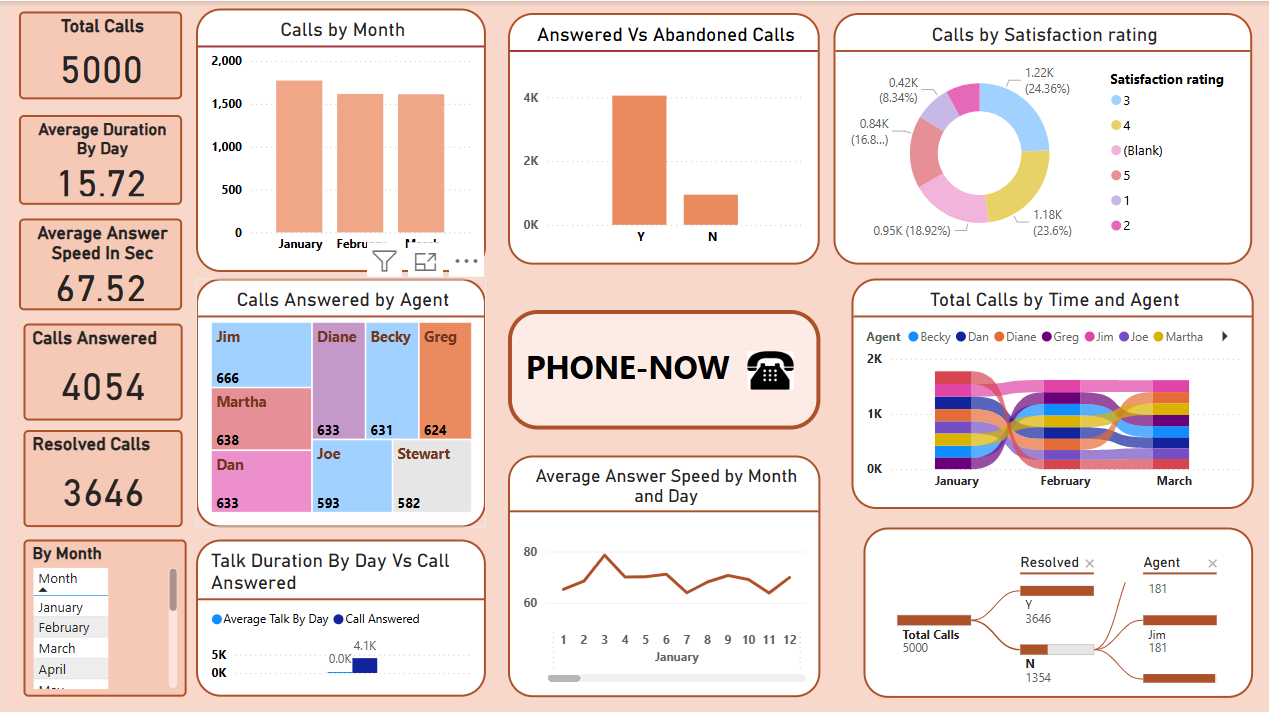

What the dashboard file says about the page in this screenshot:
{"tool":"powerbi","page":{"name":"Page 1","canvas":[1280,720],"ordinal":0},"visuals":[{"type":"clusteredColumnChart","title":"Calls  by Month","fields":{"Category":["Sheet1.Date.Variation.Date Hierarchy.Month"],"Y":["Sheet1.Call Id"]},"box":[197,8.1,292.4,266],"z":0},{"type":"clusteredColumnChart","title":"Answered Vs Abandoned Calls","fields":{"Category":["Sheet1.Answered (Y/N)"],"Y":["Sheet1.Call Id"]},"box":[511.7,12.2,314.8,253.8],"z":1000},{"type":"donutChart","title":" Calls by Satisfaction rating","fields":{"Category":["Sheet1.Satisfaction rating"],"Y":["Sheet1.Call Id"]},"box":[840.7,12.2,422.4,253.8],"z":2000},{"type":"treemap","title":"Calls  Answered  by Agent","fields":{"Group":["Sheet1.Agent"],"Values":["Sheet1.Answered (Y/N)"]},"box":[196.5,279.7,292.9,251.3],"z":3000},{"type":"card","title":"Total Calls","fields":{"Values":["Sheet1.Total Calls"]},"box":[18.9,11.3,164.4,88.8],"z":4000},{"type":"tableEx","title":"By Month","fields":{"Values":["Sheet1.Time.Variation.Date Hierarchy.Month"]},"box":[22.7,544.3,164.4,158.7],"z":5000},{"type":"card","title":"Average Answer Speed In Sec","fields":{"Values":["Sheet1.Average Answer Speed"]},"box":[18.9,219.2,164.4,92.6],"z":6000},{"type":"card","title":"Average Duration By Day","fields":{"Values":["Sheet1.Average Talk"]},"box":[18.9,115.3,164.4,90.7],"z":7000},{"type":"card","title":"Calls Answered","fields":{"Values":["Sheet1.Call Answered"]},"box":[22.7,325,160.6,98.3],"z":8000},{"type":"clusteredColumnChart","title":" Talk Duration By  Day Vs Call Answered","fields":{"Y":["Sheet1.Average Talk By Day","Sheet1.Call Answered"]},"box":[196.5,544.3,292.9,158.7],"z":9000},{"type":"card","title":"Resolved Calls","fields":{"Values":["Sheet1.Resolved Calls"]},"box":[22.7,432.8,160.6,98.3],"z":10000},{"type":"textbox","box":[512.1,311.8,315.6,120.9],"z":11000},{"type":"image","box":[727.6,347.7,100.2,49.1],"z":12000},{"type":"ribbonChart","title":"Total Calls by Time  and Agent","fields":{"Y":["Sheet1.Total Calls"],"Category":["Sheet1.Date.Variation.Date Hierarchy.Month"],"Series":["Sheet1.Agent"]},"box":[858,279.7,406.3,232.4],"z":13000},{"type":"decompositionTreeVisual","fields":{"Analyze":["Sheet1.Total Calls"],"ExplainBy":["Sheet1.Resolved","Sheet1.Agent"]},"box":[871.2,531,393.1,172],"z":14000},{"type":"lineChart","fields":{"Category":["Sheet1.Date.Variation.Date Hierarchy.Month","Sheet1.Date.Variation.Date Hierarchy.Day"],"Y":["Sheet1.Average Answer Speed"]},"box":[512.1,459.2,315.6,243.8],"z":15000}]}

Visuals, with their boxes in screenshot pixels (x1, y1, x2, y2), scaled from the page's 1280x720 canvas onto the 1269x712 screenshot:
"Calls  by Month" clusteredColumnChart: [left=195, top=8, right=485, bottom=271]
"Answered Vs Abandoned Calls" clusteredColumnChart: [left=507, top=12, right=819, bottom=263]
" Calls by Satisfaction rating" donutChart: [left=833, top=12, right=1252, bottom=263]
"Calls  Answered  by Agent" treemap: [left=195, top=277, right=485, bottom=525]
"Total Calls" card: [left=19, top=11, right=182, bottom=99]
"By Month" tableEx: [left=23, top=538, right=185, bottom=695]
"Average Answer Speed In Sec" card: [left=19, top=217, right=182, bottom=308]
"Average Duration By Day" card: [left=19, top=114, right=182, bottom=204]
"Calls Answered" card: [left=23, top=321, right=182, bottom=419]
" Talk Duration By  Day Vs Call Answered" clusteredColumnChart: [left=195, top=538, right=485, bottom=695]
"Resolved Calls" card: [left=23, top=428, right=182, bottom=525]
textbox: [left=508, top=308, right=821, bottom=428]
image: [left=721, top=344, right=821, bottom=392]
"Total Calls by Time  and Agent" ribbonChart: [left=851, top=277, right=1253, bottom=506]
decompositionTreeVisual - Sheet1.Total Calls x Sheet1.Resolved: [left=864, top=525, right=1253, bottom=695]
lineChart - Sheet1.Date.Variation.Date Hierarchy.Month x Sheet1.Date.Variation.Date Hierarchy.Day: [left=508, top=454, right=821, bottom=695]
